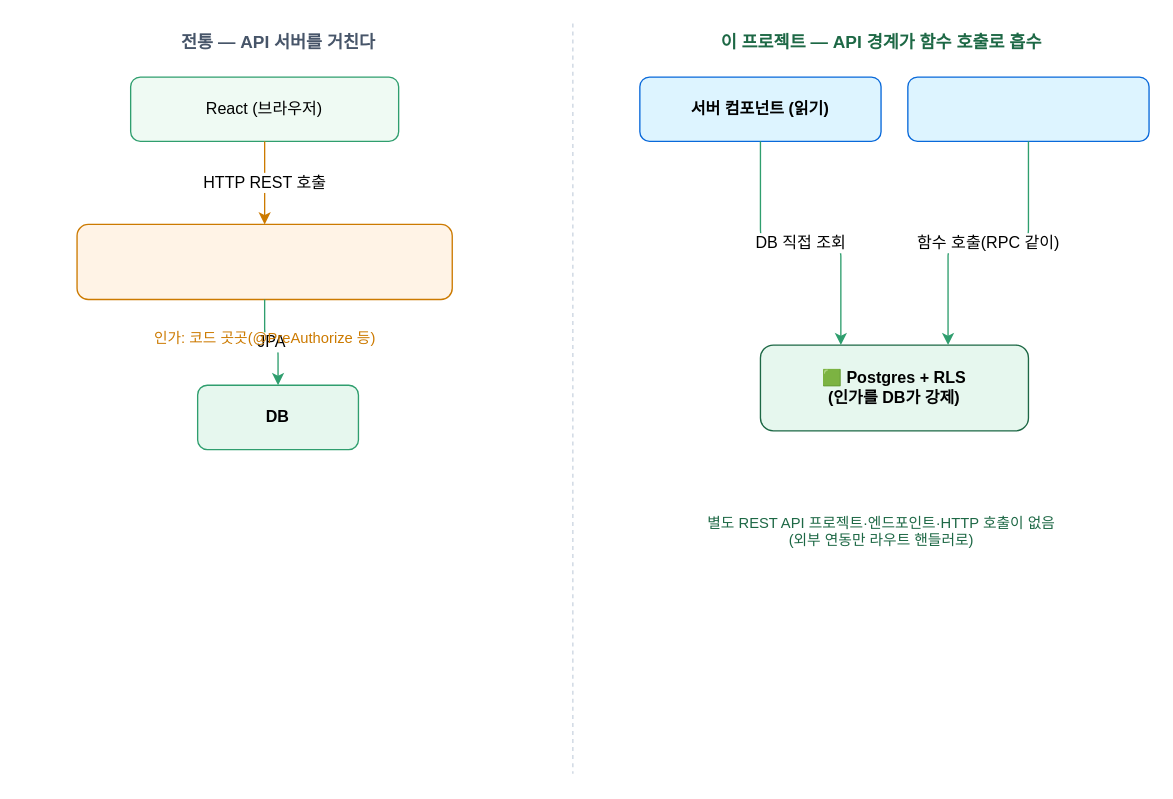
Some shapes in this 1173 by 799 pixel diagram are drawn without their labels. Each missing label, with the centre of its shape:
"Spring — Controller→Service→Repository" goes at pixel 264 261.
"클라 폼 → 서버 액션 (쓰기)" goes at pixel 1028 108.
